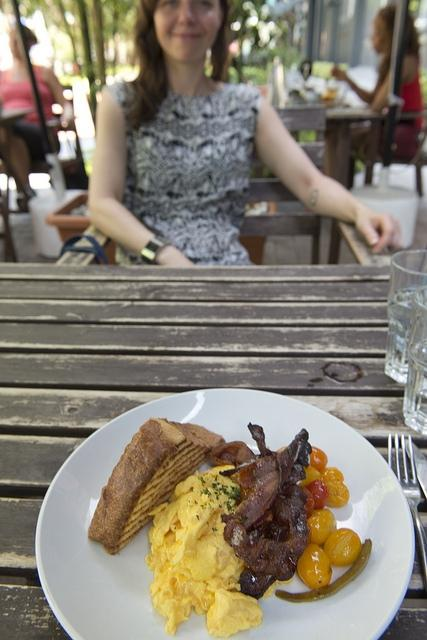green bean: (275, 538, 373, 603)
tomato: (297, 544, 332, 588), (324, 528, 362, 566), (307, 508, 338, 549), (306, 479, 330, 508), (324, 482, 350, 508), (298, 465, 322, 487), (310, 446, 328, 471), (301, 487, 315, 519), (319, 467, 344, 484)
